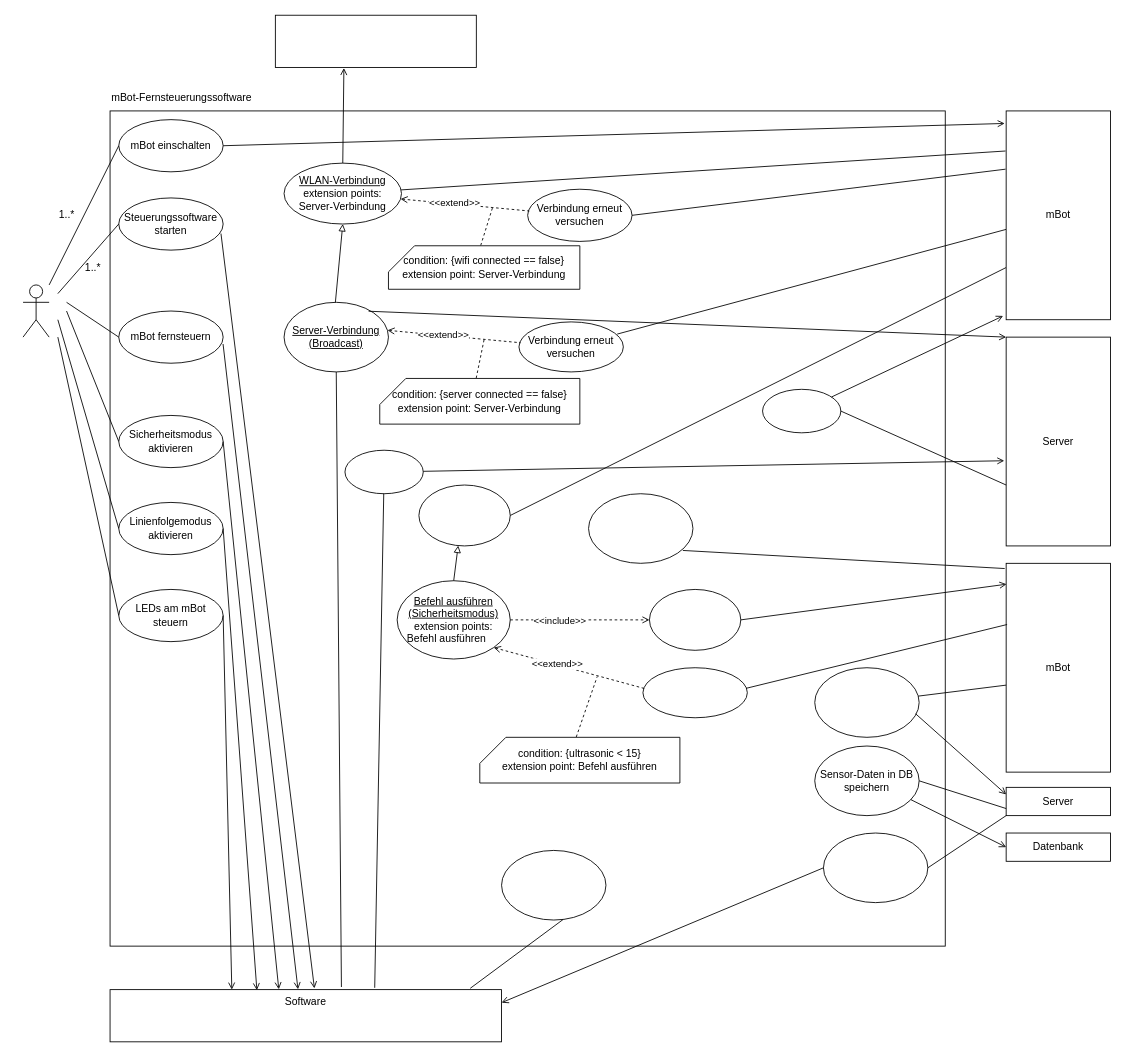
The diagram is 1126 pixels wide and 1057 high, and some of its shapes have lost their labels. Each missing label, with the centre of its shape:
"Abstand zu Objekten prüfen" goes at [695,619].
"Befehl ausführen" goes at [464,515].
"Befehl senden" goes at [383,471].
"Befehl weiterleiten" goes at [801,410].
"Benutzer" goes at [35,310].
"LEDs umschalten" goes at [640,528].
"Netzwerk" goes at [375,40].
"Sensor-Daten anzeigen" goes at [553,885].
"Sensor-Daten senden" goes at [866,702].
"Sensor-Daten weiterleiten" goes at [875,867].
"Stoppe Motoren" goes at [694,692].
